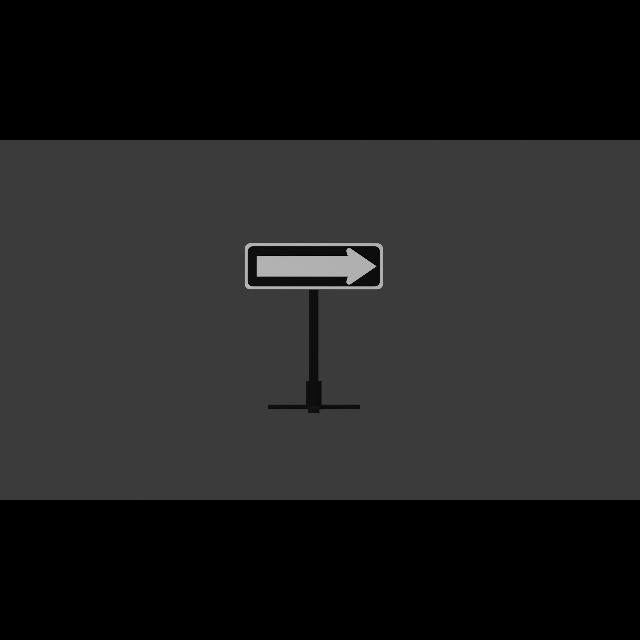sign_oneway_right: (247, 242, 386, 292)
